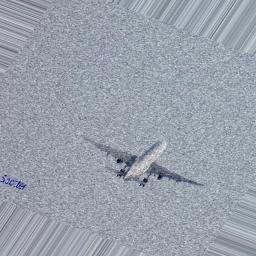Airplane: (82, 135, 205, 191)
